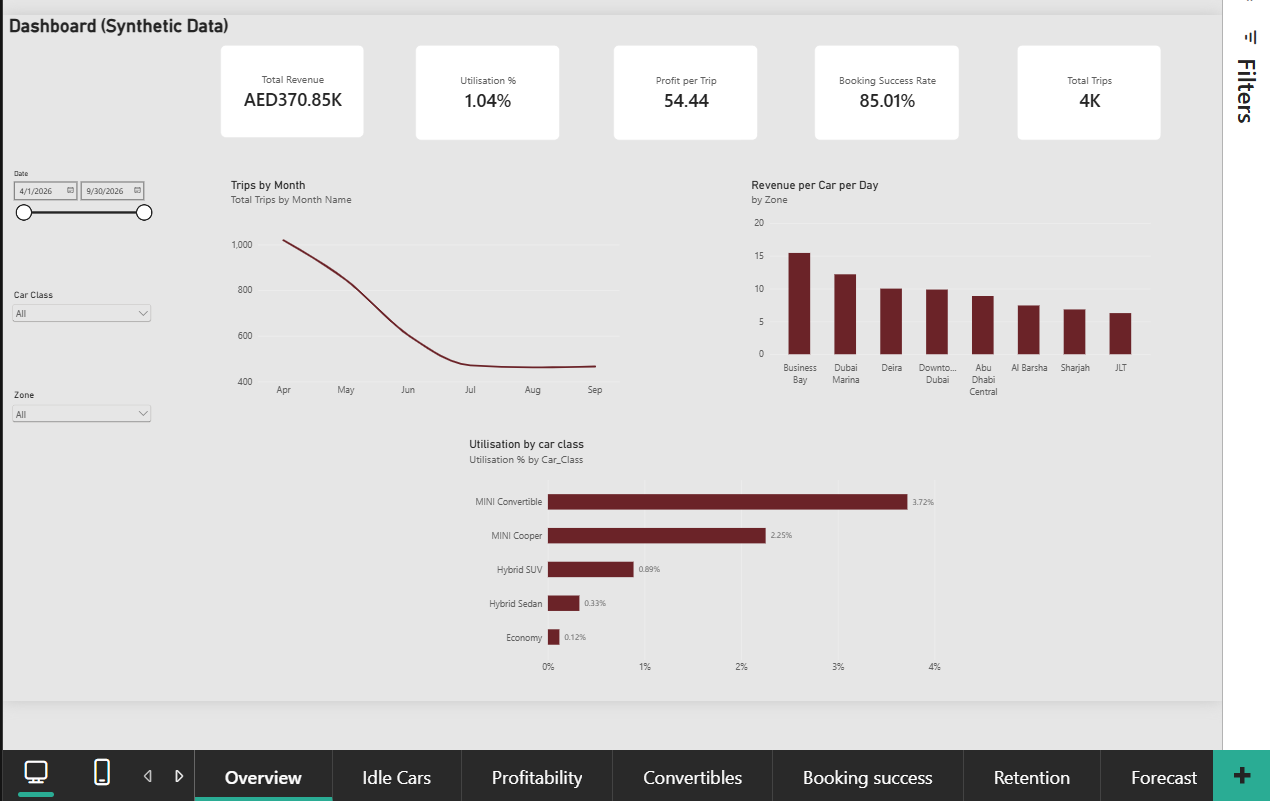

This screenshot's page, from the dashboard's own definition file:
{"tool":"powerbi","page":{"name":"Overview","canvas":[1920,1080],"ordinal":0},"visuals":[{"type":"textbox","title":"Dashboard (Synthetic Data)","box":[9.5,0,526.9,37.8],"z":0},{"type":"slicer","fields":{"Values":["Date.Date"]},"box":[9.5,243.4,229.2,99.2],"z":1000},{"type":"slicer","fields":{"Values":["Cars.Car_Class"]},"box":[9.5,432.4,229.2,59.1],"z":2000},{"type":"slicer","fields":{"Values":["Cars.Zone"]},"box":[9.5,590.7,229.2,61.4],"z":3000},{"type":"cardVisual","fields":{"Data":["_Measures.Total Trips"]},"box":[1597.3,47.5,227,150],"z":4000},{"type":"cardVisual","fields":{"Data":["_Measures.Total Revenue"]},"box":[343,47.5,226.8,146.5],"z":5000},{"type":"cardVisual","fields":{"Data":["_Measures.Utilisation %"]},"box":[648.8,47.5,227,150],"z":6000},{"type":"cardVisual","fields":{"Data":["Low Use Threshold.Profit per Trip"]},"box":[960.9,47.5,227,150],"z":7000},{"type":"cardVisual","fields":{"Data":["Low Use Threshold.Booking Success Rate"]},"box":[1277,47.5,228,150],"z":8000},{"type":"lineChart","title":"Trips by Month","fields":{"Category":["Date.Month Name"],"Y":["_Measures.Total Trips"]},"box":[342.6,243.4,645,378],"z":9000},{"type":"clusteredBarChart","title":"Utilisation by car class","fields":{"Category":["Cars.Car_Class"],"Y":["_Measures.Utilisation %"]},"box":[718.2,652.1,774.9,406.4],"z":10000},{"type":"clusteredColumnChart","fields":{"Category":["Cars.Zone"],"Y":["_Measures.Revenue per Car per Day"]},"box":[1162.4,243.4,661.5,378],"z":11000}]}

Visuals, with their boxes on the page's 1920x1080 design canvas (x1, y1, x2, y2). These are canvas units, not pixel positions in the 1270x801 screenshot, which may show the page scaled, cropped or inside an application window:
"Dashboard (Synthetic Data)" textbox: [x1=10, y1=0, x2=536, y2=38]
slicer - Date.Date: [x1=10, y1=243, x2=239, y2=343]
slicer - Cars.Car_Class: [x1=10, y1=432, x2=239, y2=492]
slicer - Cars.Zone: [x1=10, y1=591, x2=239, y2=652]
cardVisual - _Measures.Total Trips: [x1=1597, y1=48, x2=1824, y2=198]
cardVisual - _Measures.Total Revenue: [x1=343, y1=48, x2=570, y2=194]
cardVisual - _Measures.Utilisation %: [x1=649, y1=48, x2=876, y2=198]
cardVisual - Low Use Threshold.Profit per Trip: [x1=961, y1=48, x2=1188, y2=198]
cardVisual - Low Use Threshold.Booking Success Rate: [x1=1277, y1=48, x2=1505, y2=198]
"Trips by Month" lineChart: [x1=343, y1=243, x2=988, y2=621]
"Utilisation by car class" clusteredBarChart: [x1=718, y1=652, x2=1493, y2=1058]
clusteredColumnChart - Cars.Zone x _Measures.Revenue per Car per Day: [x1=1162, y1=243, x2=1824, y2=621]
